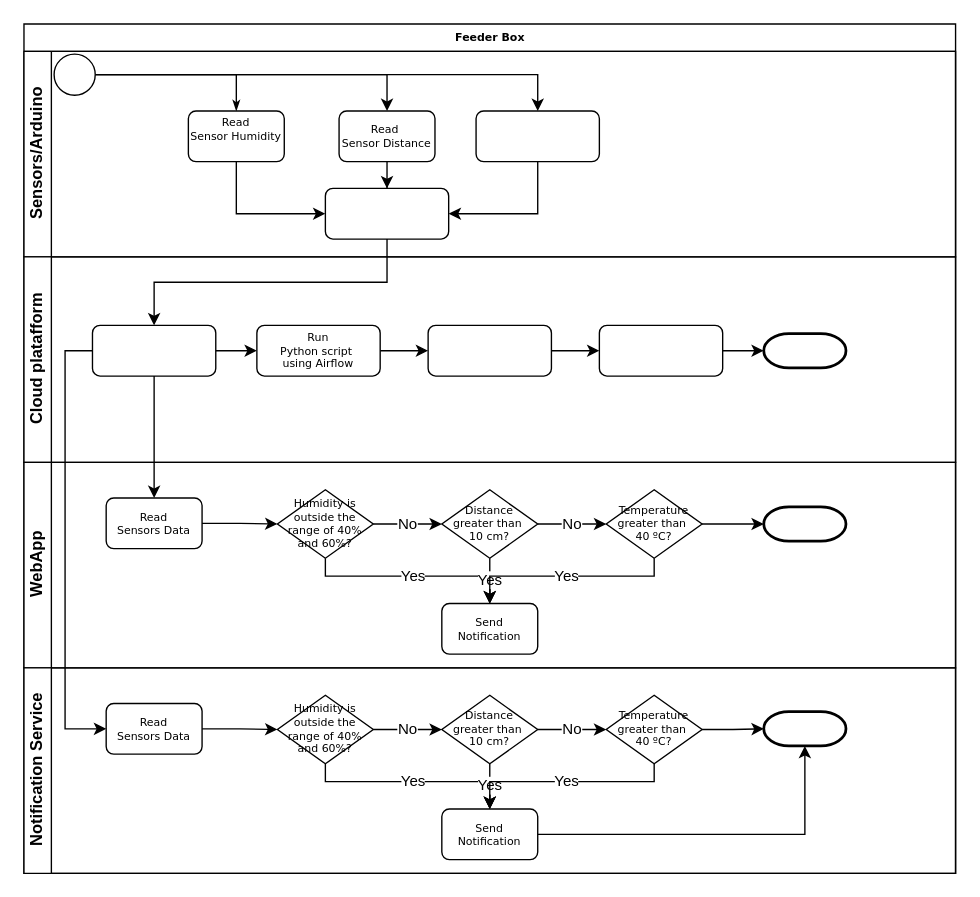
This 980x897 diagram has some shape labels left out. The centre of each missing label's shape, as x and y in pixels:
"Extract and Send Data using Python script" goes at (x=489, y=350).
"Read Sensor Temperature" goes at (x=537, y=136).
"Save Data in Historical DB" goes at (x=660, y=350).
"Save Data in Realtime DB" goes at (x=153, y=350).
"Send Data using Arduino" goes at (x=386, y=213).
